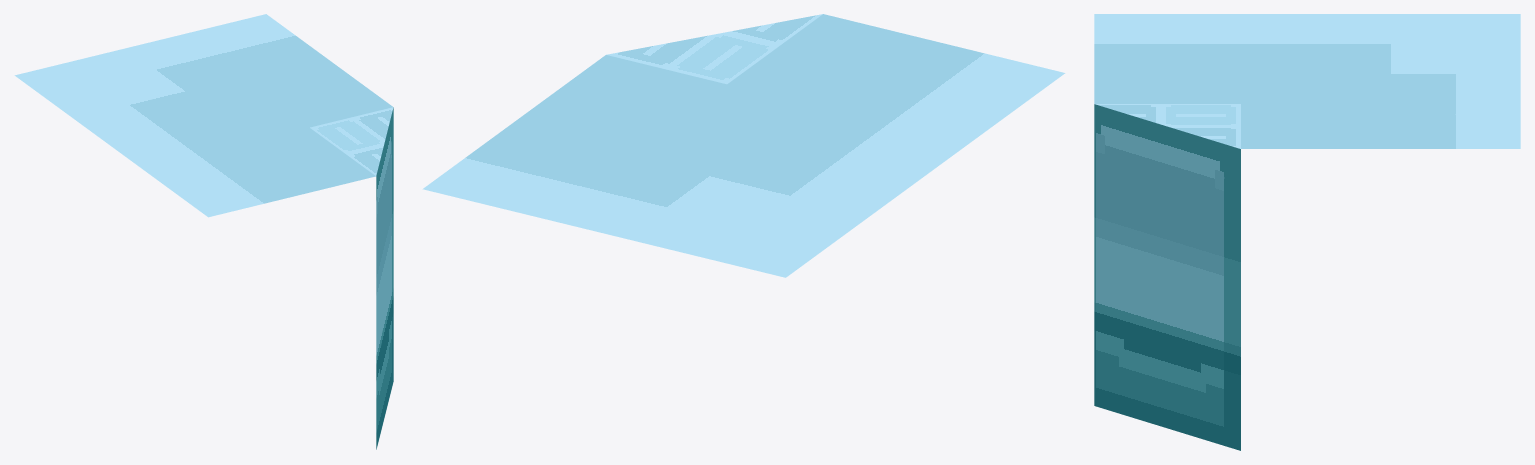
Rendered from hgss-centre-b1-mur-nord-raccord-ouest.glb.
3 renders of one model, left to right at view 1: azimuth 30°, elevation 25°; view 2: azimuth 150°, elevation 25°; view 3: azimuth 270°, elevation 25°, orthographic. The views are drawn at different scales.
Size of the model in its own units: 3 by 3.12 by 4.
2 materials, 2 textured.
